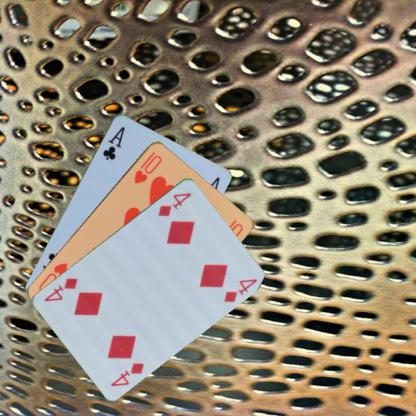10h: (131, 152, 164, 185)
4d: (155, 189, 193, 218), (108, 359, 146, 388)
Ac: (100, 123, 126, 161)
